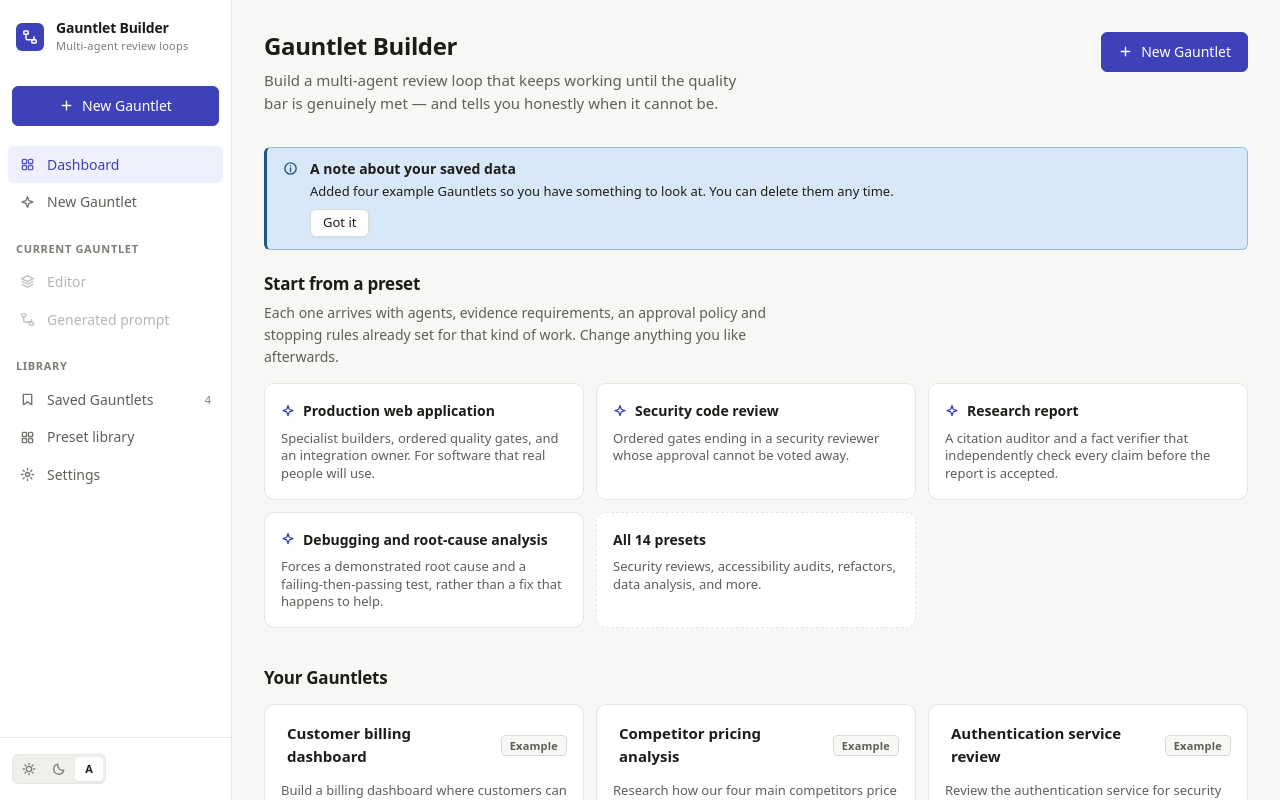
Scenario: presets › starts a configured Gauntlet from a preset
What coordinates should you click on to do the following:
click the button "Preset library"
I would click on:
 (116, 437)
Its box is [8,418,223,456].
(page scrolled)
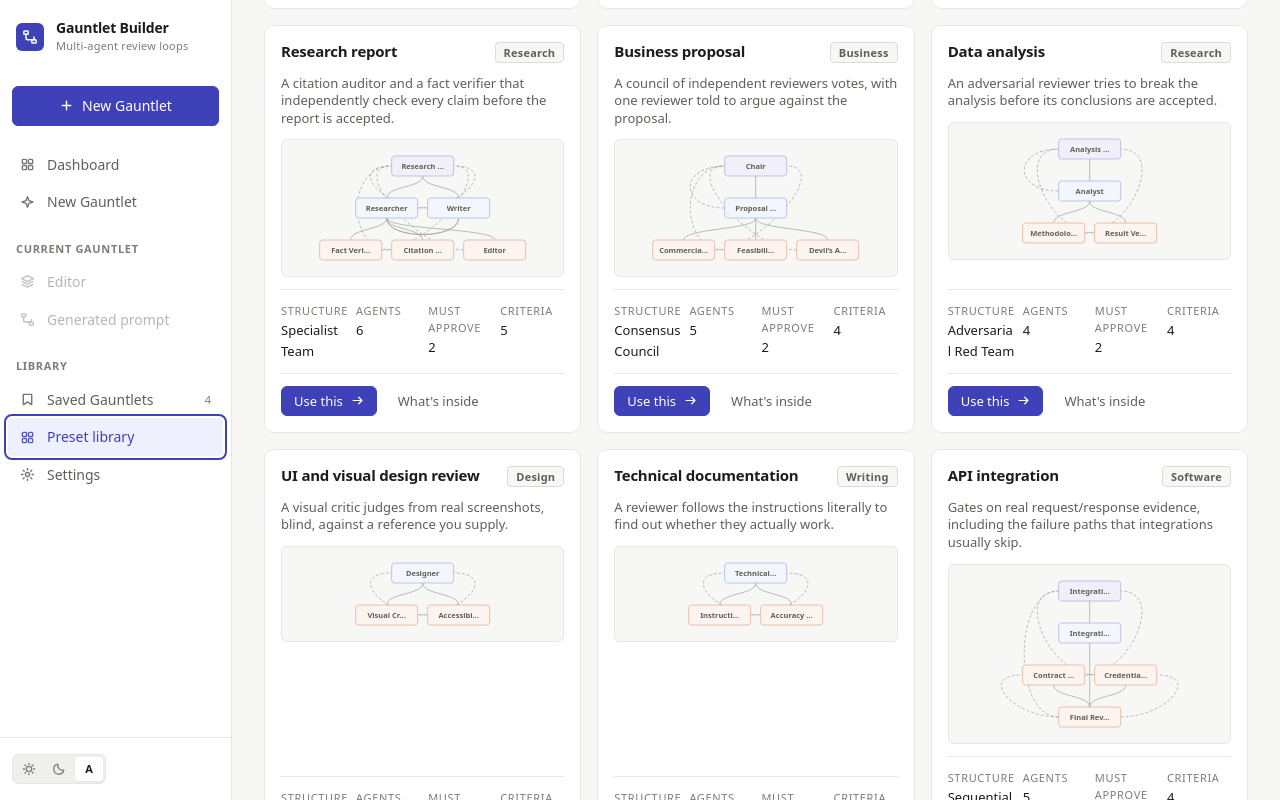
Expected: the element "Research report" is shown, [264,25,581,433]
What coordinates should you click on to do the following:
click the button "Use this" below "Specialist Team"
I would click on:
 (329, 401)
Its box is [281,386,377,416].
(page scrolled)
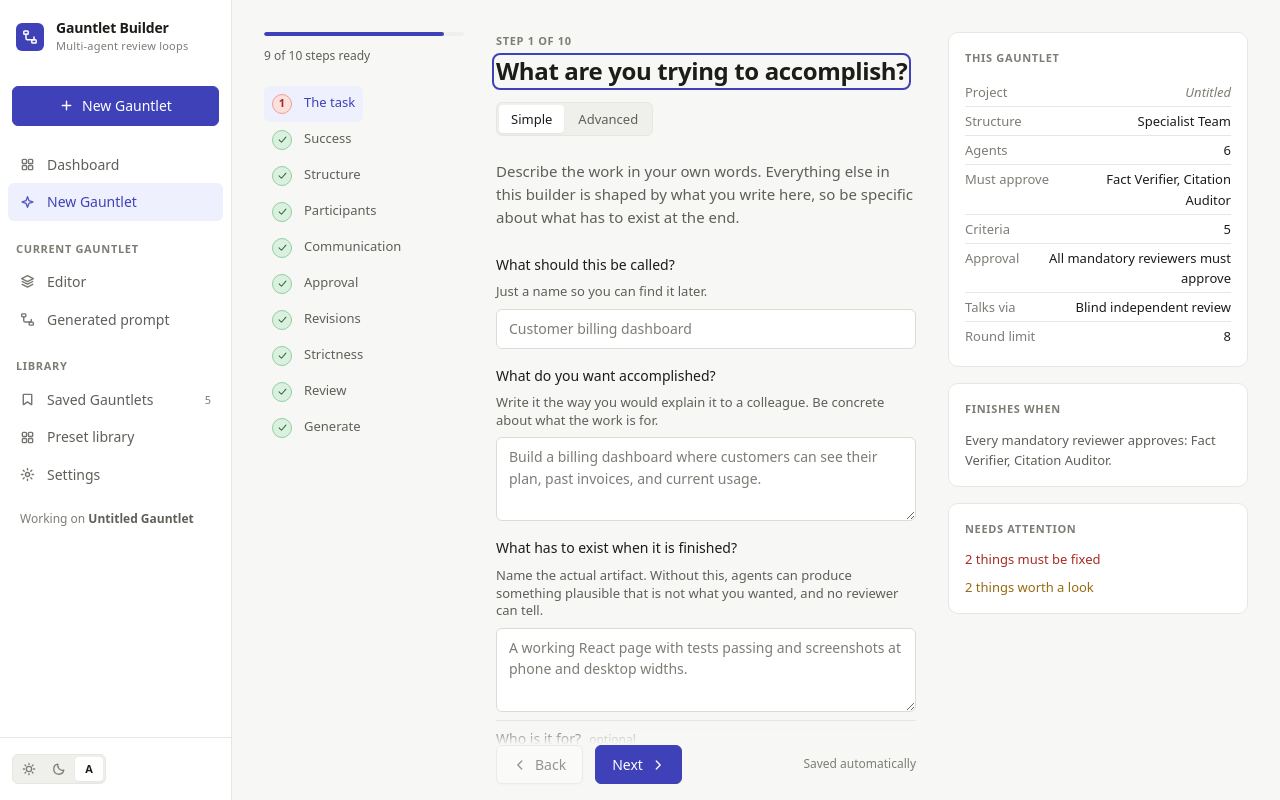
Expected: the heading "What are you trying to accomplish?" is shown, [496,57,907,86]
What coordinates should you click on to do the following:
click the button with aria-label "Step 4. Participants"
I would click on:
 (324, 212)
Its box is [264,194,384,230].
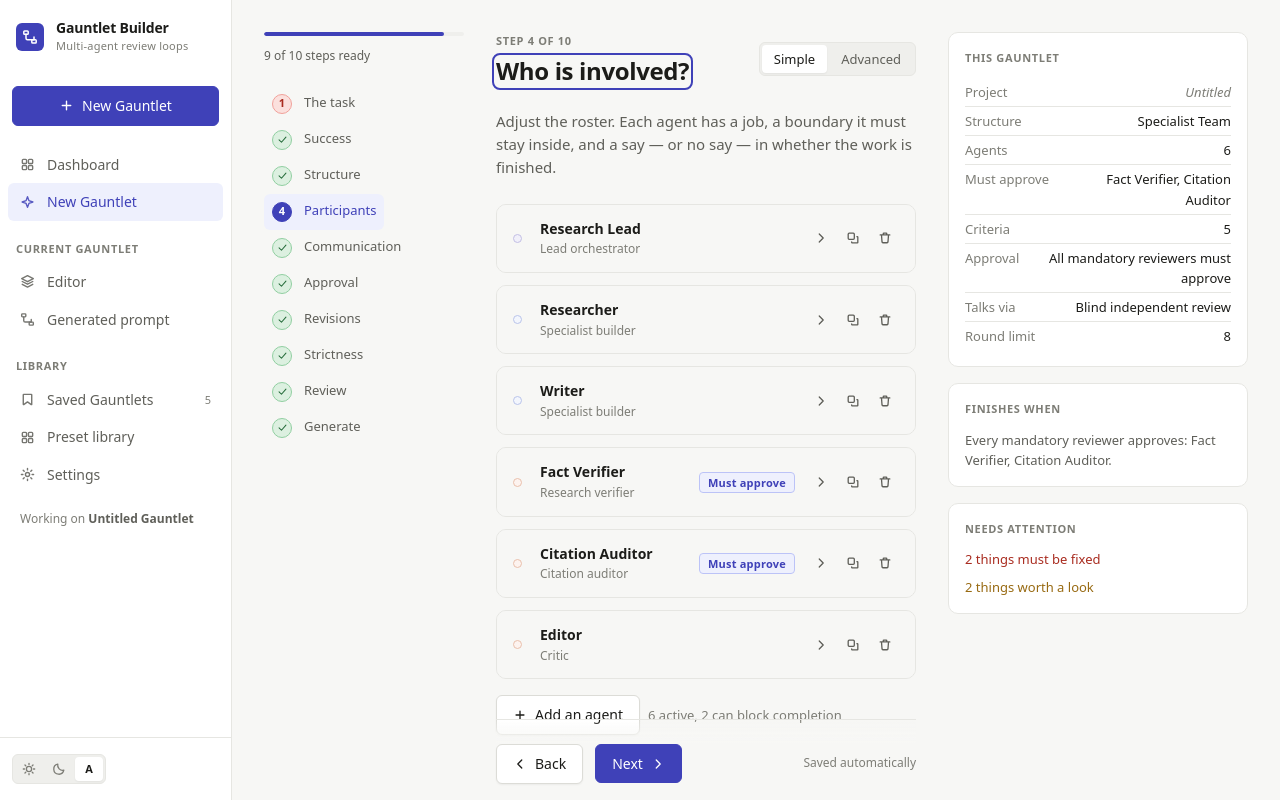
Expected: the text "Fact Verifier" is shown, [540,461,625,483]
Expected: the text "Citation Auditor" is shown, [540,543,653,564]
